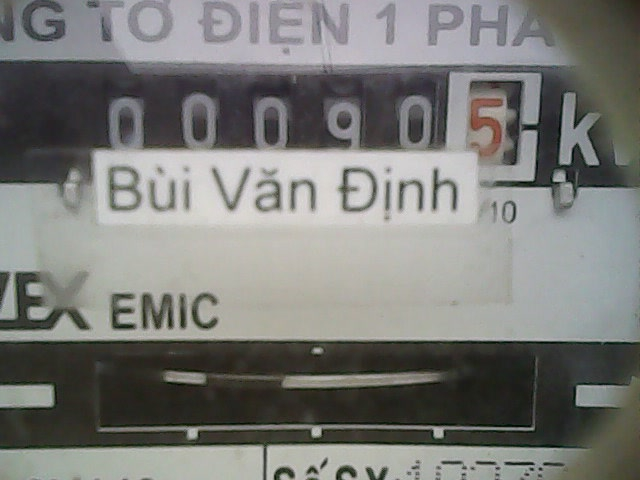phy_plate: (97, 70, 539, 180)
